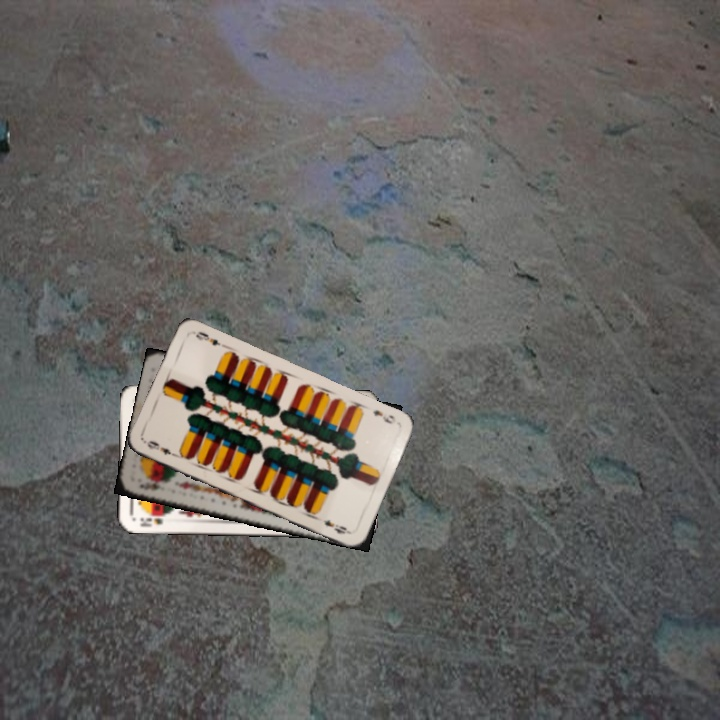E9: (141, 436, 180, 460), (369, 406, 399, 427)
SK: (136, 475, 162, 494), (136, 514, 165, 529)
